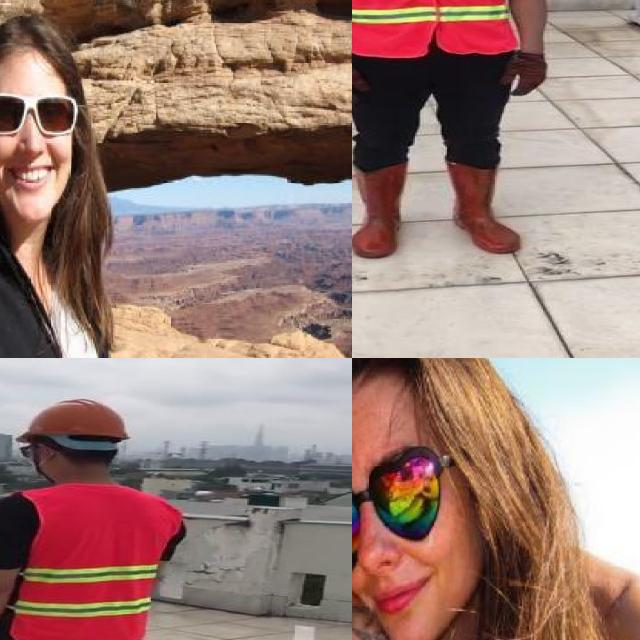boots: (444, 158, 522, 253), (352, 164, 404, 257)
face_nomask: (352, 456, 467, 618), (0, 88, 69, 199)
glasses: (352, 439, 450, 575), (0, 85, 81, 151)
hand_glove: (504, 55, 546, 98), (352, 63, 370, 107)
head_helmet: (16, 397, 131, 441), (0, 14, 70, 86)
head_nohelmet: (352, 358, 445, 428)
person: (352, 0, 565, 265), (0, 394, 187, 640), (0, 2, 118, 358)
vest: (14, 484, 179, 640), (352, 0, 514, 57)
